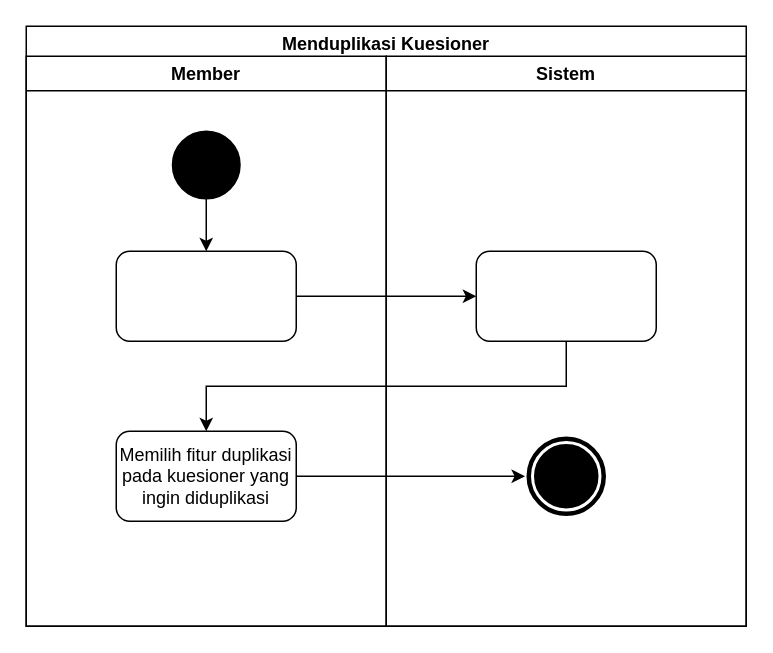
Image size: 773x653. Some labels were removed from this diagram. Each missing label, with the centre of its shape:
"Membuka halaman dashboard" goes at point (205, 295).
"Menampilkan halaman dashboard" goes at point (565, 295).
